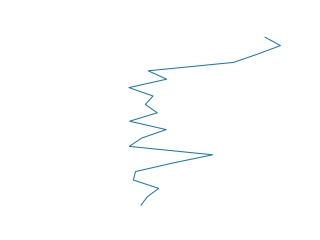crevasseRiverChannelBar: (123, 34, 285, 208)
